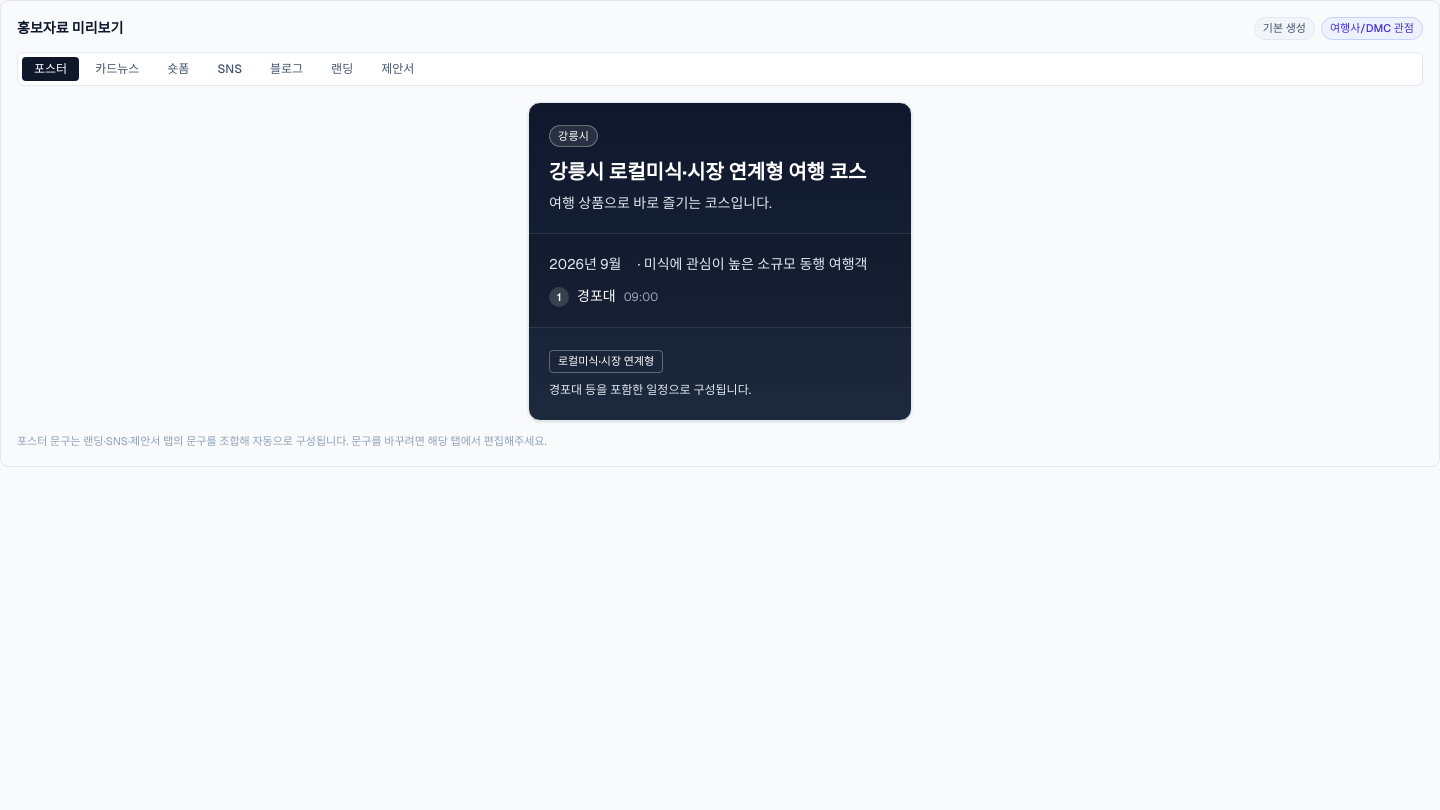
Scenario: PromoPreviewPanel › 랜딩 탭은 히어로 제목·대표 코스·CTA를 함께 보여준다
Step 1. Click the tab "랜딩" → coordinates (342, 68), box [319, 56, 365, 80]
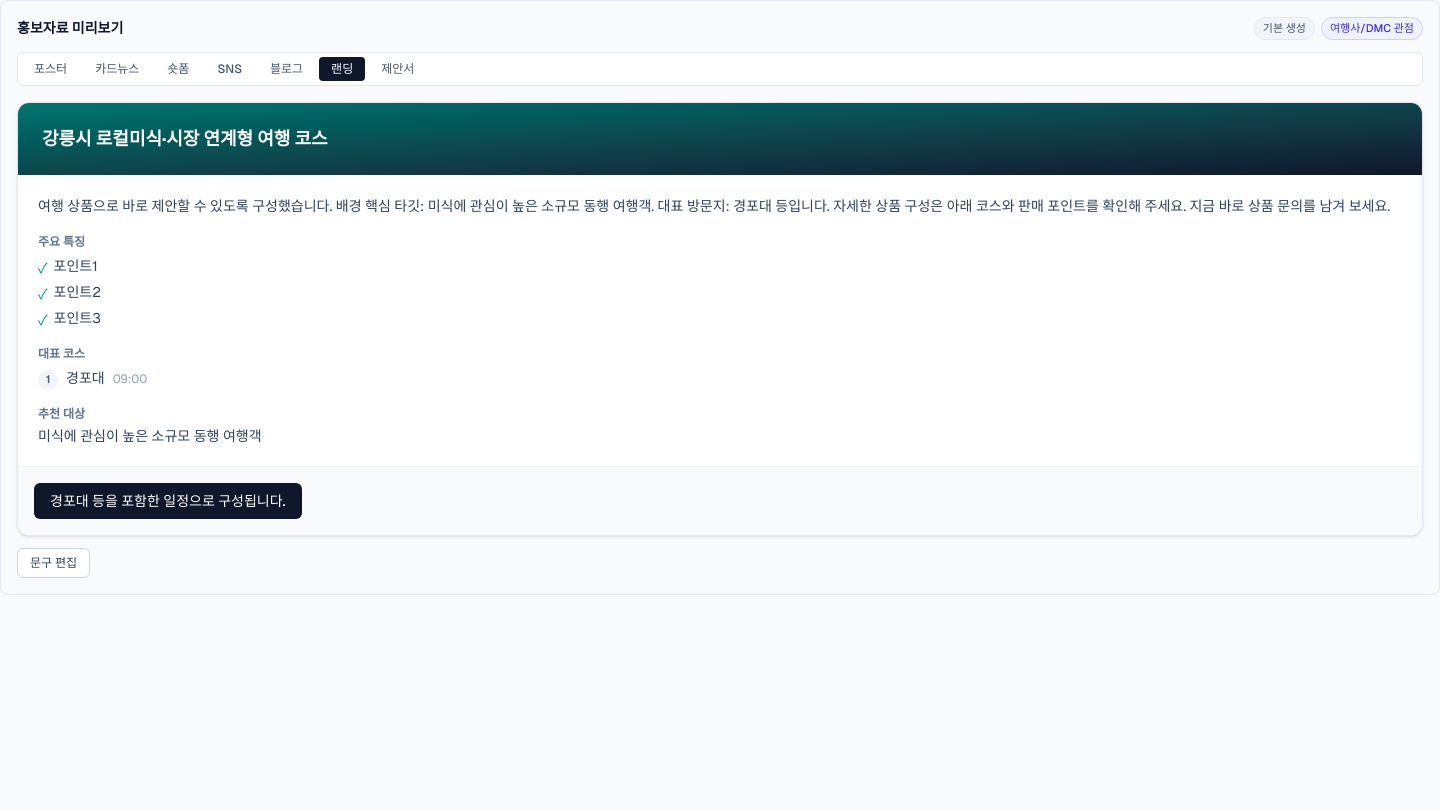
expect the text "경포대" is shown: met, box [66, 368, 105, 388]
expect the text "대표 코스" is shown: met, box [38, 346, 85, 362]
